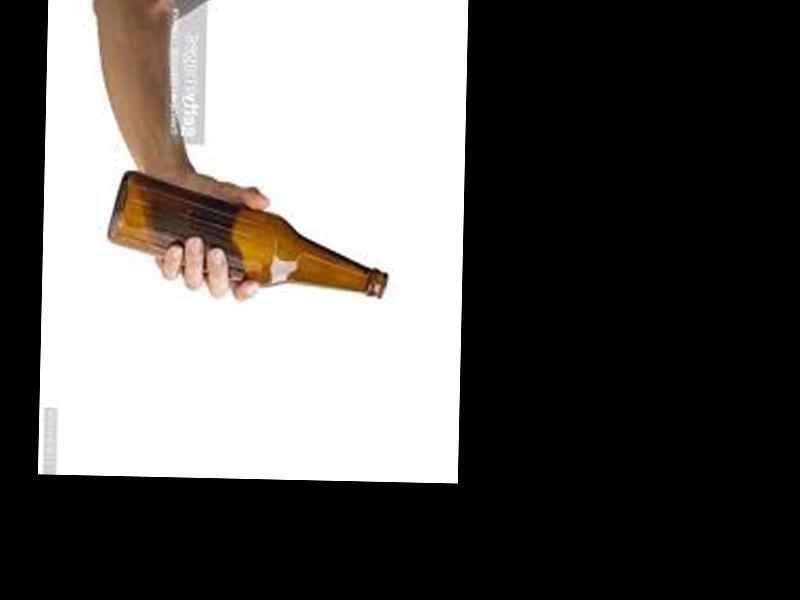Beer: (108, 167, 389, 298)
